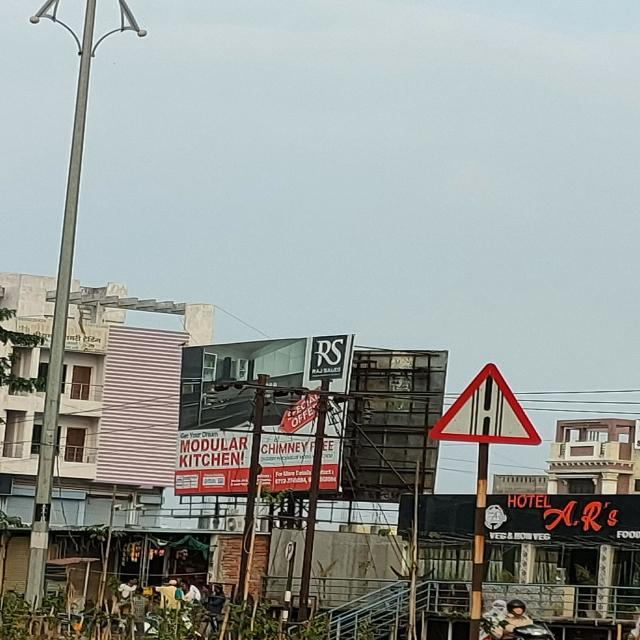gap in median: (427, 363, 547, 445)
